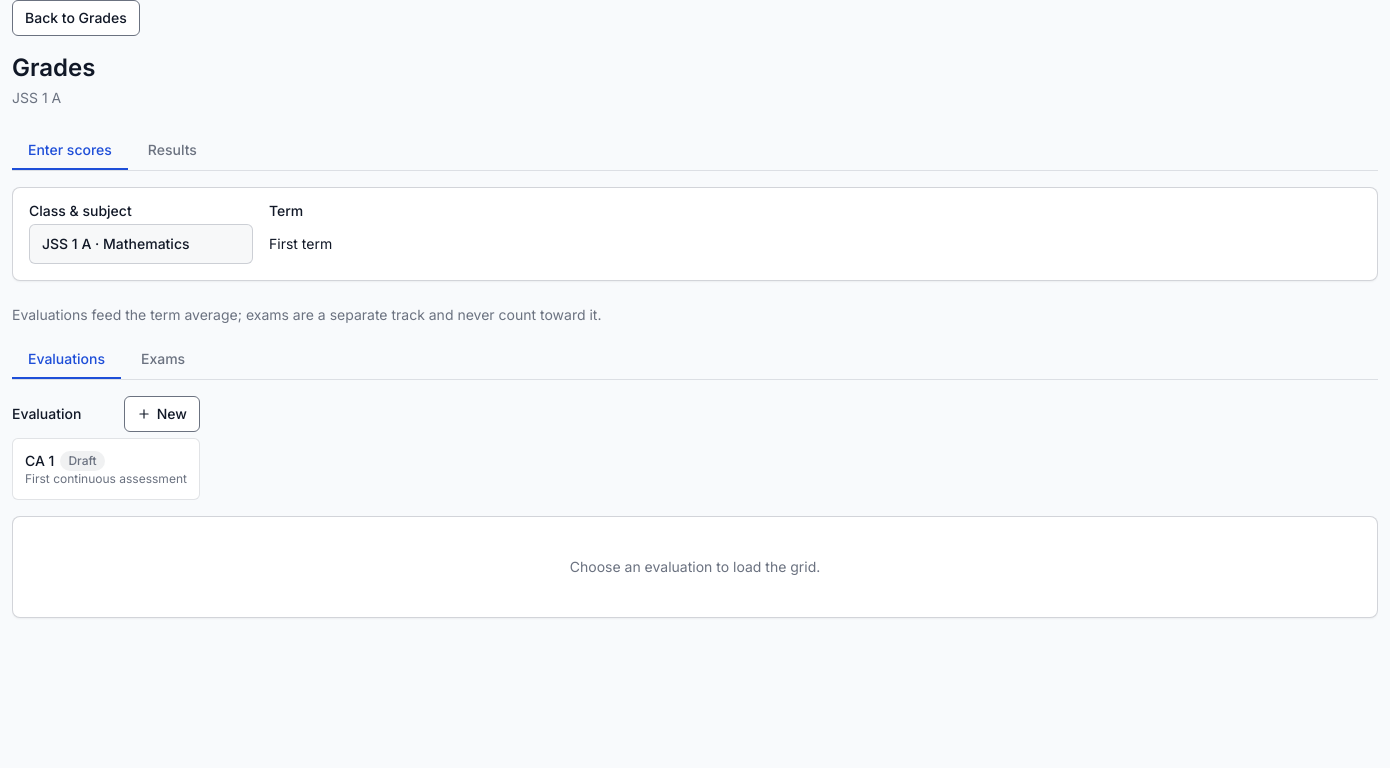
Test: ClassGradesPage — Enter scores tab › TEACHER (assigned) sees 'Submit for approval' on the Exams tab, and the exam's status badge appears once selected
Check: the button "CA 1 Draft First continuous assessment" is shown, box [12, 438, 200, 500]
Click the tab "Exams".
click(163, 360)  # box [125, 341, 201, 379]
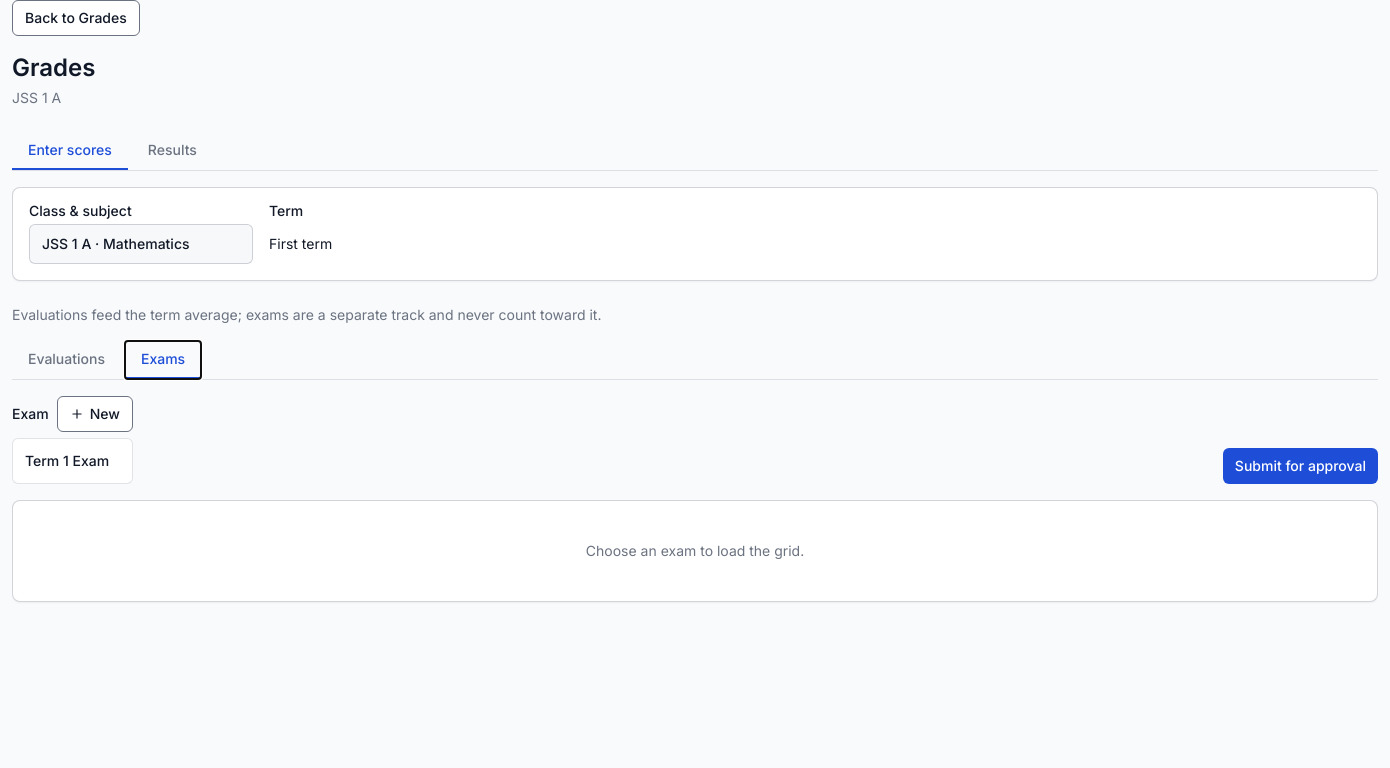
Check: the button "Submit for approval" is shown, box [1223, 448, 1378, 484]
Click the button "Term 1 Exam".
click(72, 461)  # box [12, 438, 133, 484]
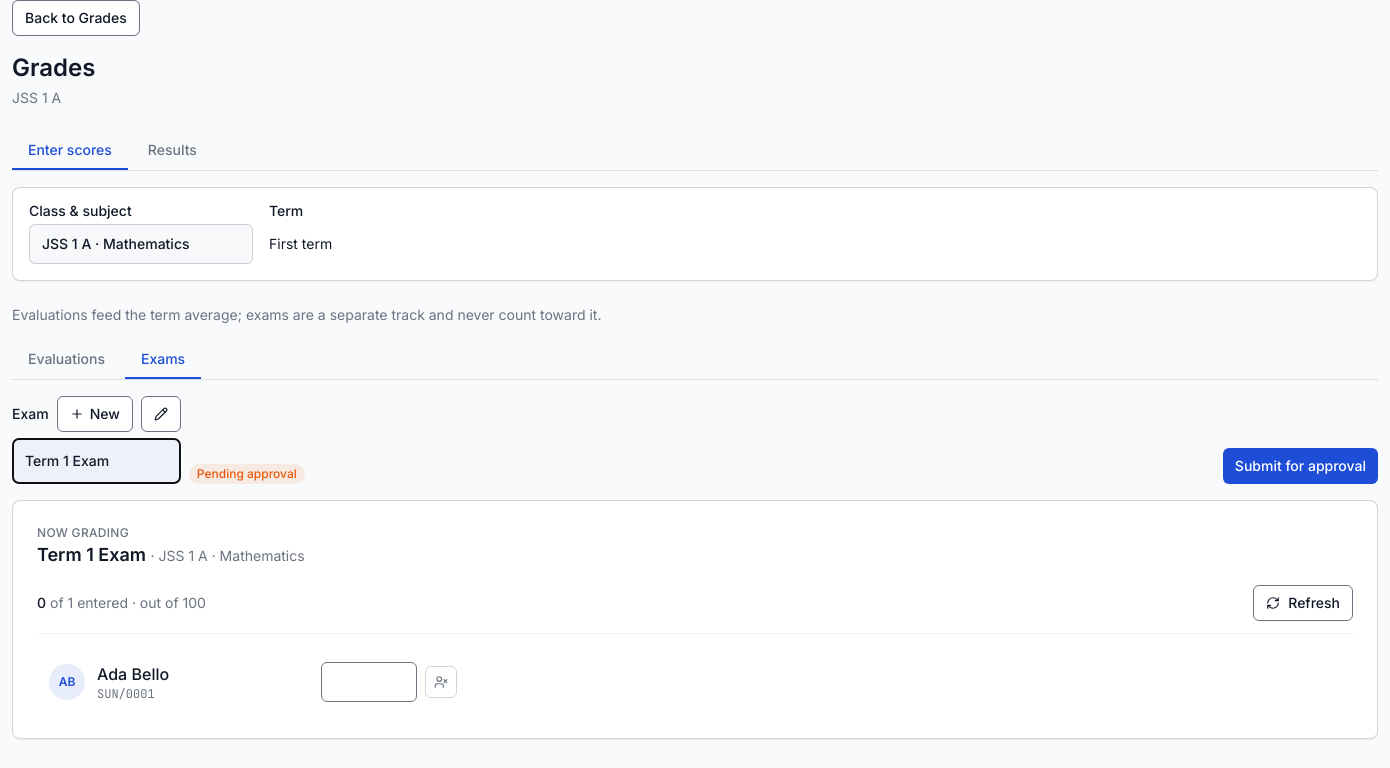
Check: the text "Pending approval" is shown, box [189, 464, 305, 484]
